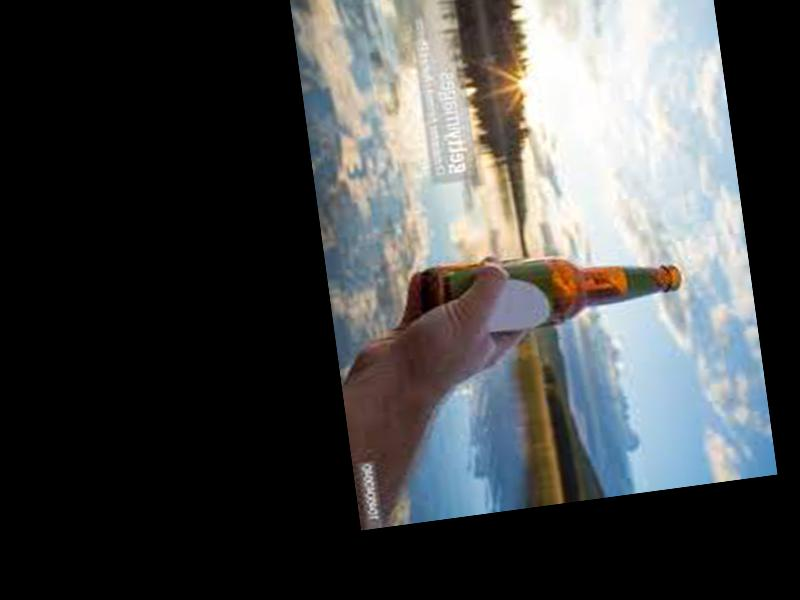Beer: (420, 230, 687, 344)
